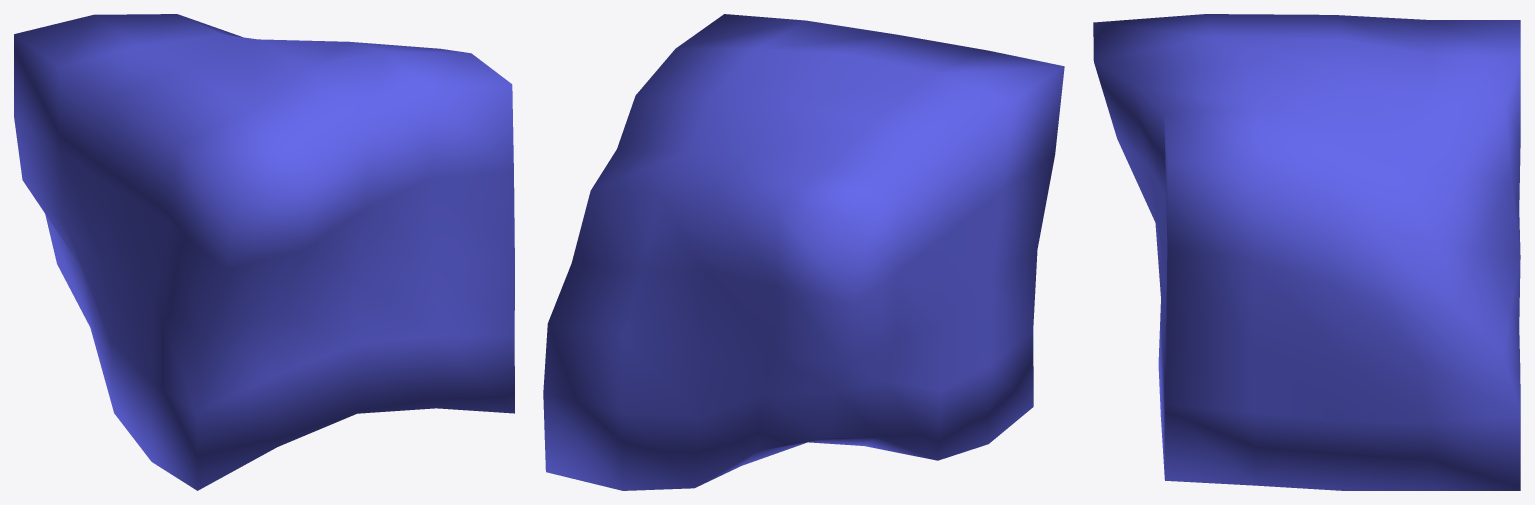
The model's file is blob.glb.
3 views of the same model, side by side, from view 1: azimuth 30°, elevation 25°; view 2: azimuth 150°, elevation 25°; view 3: azimuth 270°, elevation 25° (orthographic). The views are drawn at different scales.
Parts seen in each view (by area): view 1: Cube; view 2: Cube; view 3: Cube.
Boxes of the visible parts, bbox=[...] form: Cube: bbox=[14, 14, 514, 490]; Cube: bbox=[543, 14, 1064, 490]; Cube: bbox=[1093, 14, 1520, 490].
Size of the model in its own units: 1.01 by 1.04 by 1.14.
